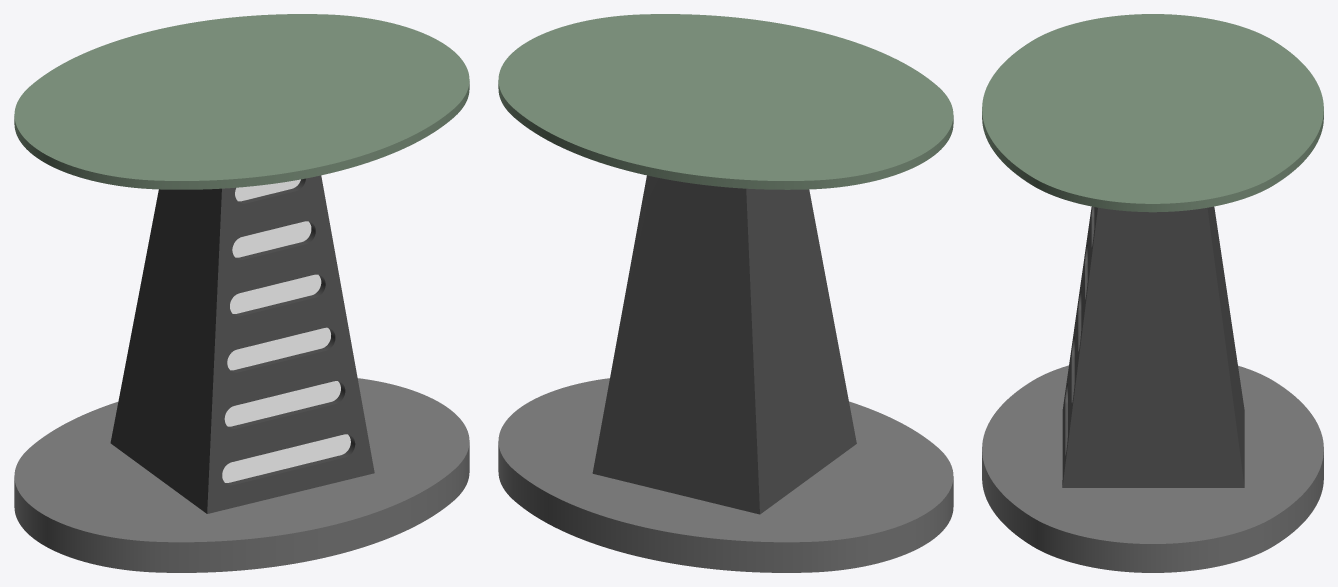
File: Lectern_1_fbx.FBX
3 renders of one model, left to right at view 1: azimuth 30°, elevation 25°; view 2: azimuth 150°, elevation 25°; view 3: azimuth 270°, elevation 25°, orthographic. The views are drawn at different scales.
Visible parts, largest first — view 1: Lectern_1_5, Lectern_1_1, Lectern_1_4, Lectern_1_2; view 2: Lectern_1_1, Lectern_1_5, Lectern_1_4; view 3: Lectern_1_5, Lectern_1_1, Lectern_1_4.
Boxes of the visible parts, bbox=[...] form: Lectern_1_5: bbox=[14, 14, 469, 189]; Lectern_1_1: bbox=[110, 175, 374, 513]; Lectern_1_4: bbox=[14, 378, 469, 572]; Lectern_1_2: bbox=[222, 179, 350, 482]; Lectern_1_1: bbox=[592, 175, 856, 514]; Lectern_1_5: bbox=[498, 14, 953, 189]; Lectern_1_4: bbox=[498, 378, 953, 572]; Lectern_1_5: bbox=[982, 14, 1323, 212]; Lectern_1_1: bbox=[1062, 206, 1244, 487]; Lectern_1_4: bbox=[982, 365, 1323, 572].
Size of what is drawn, in the model's own units: 98.58 by 89.34 by 75.
